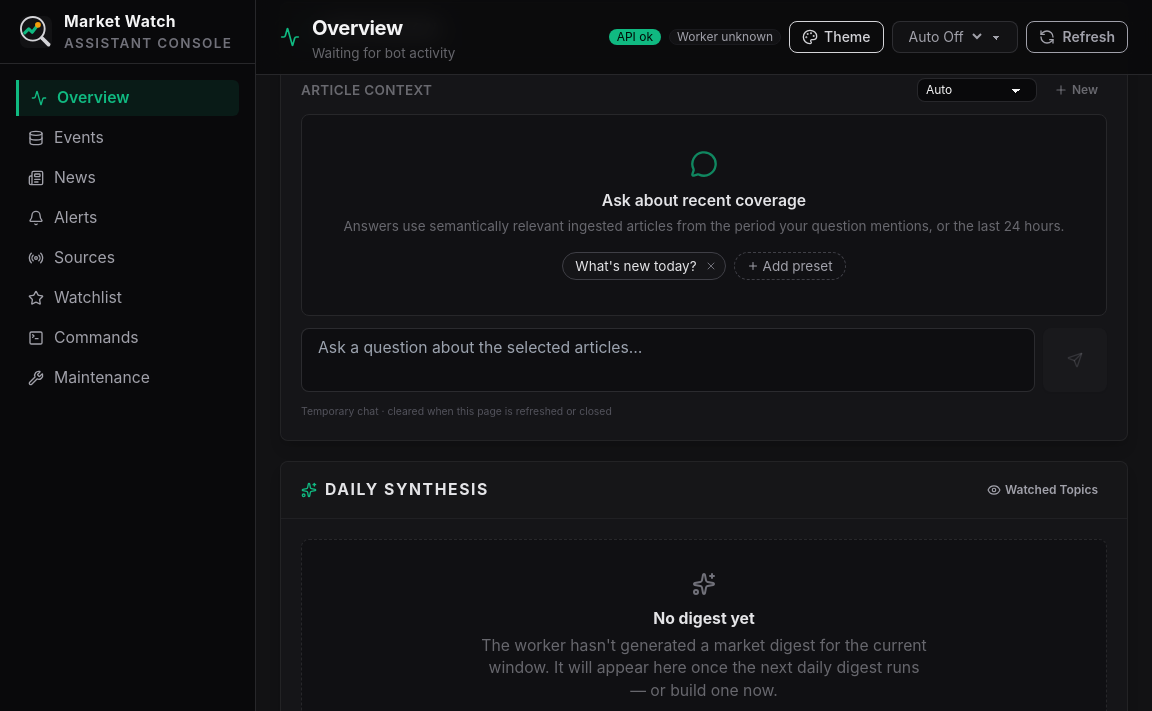
Scenario: App data states › renders Discussion Markdown with safe external links
This screenshot has width=1152, height=711.
(page scrolled)
Step 1. Type "**Explain** this" into the text box named "Discussion message" → (668, 360), box [301,328,1035,392]
(page scrolled)
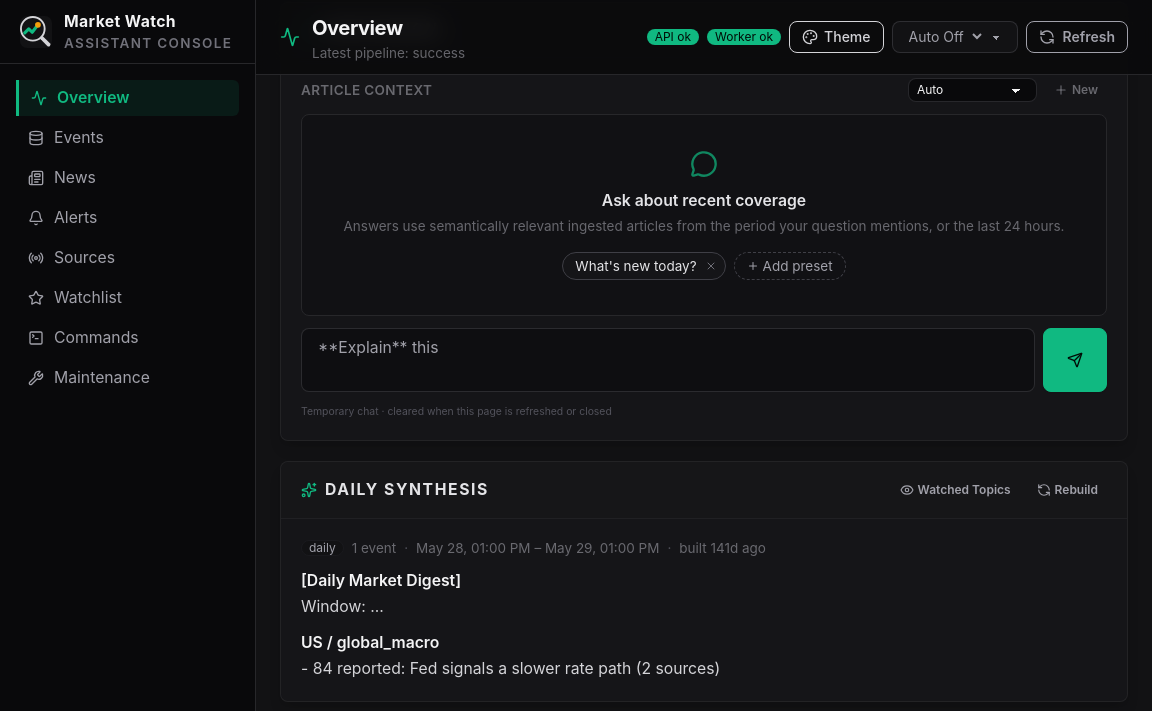
Step 2. Click the button named "Send discussion message" → (1075, 360), box [1043,328,1107,392]
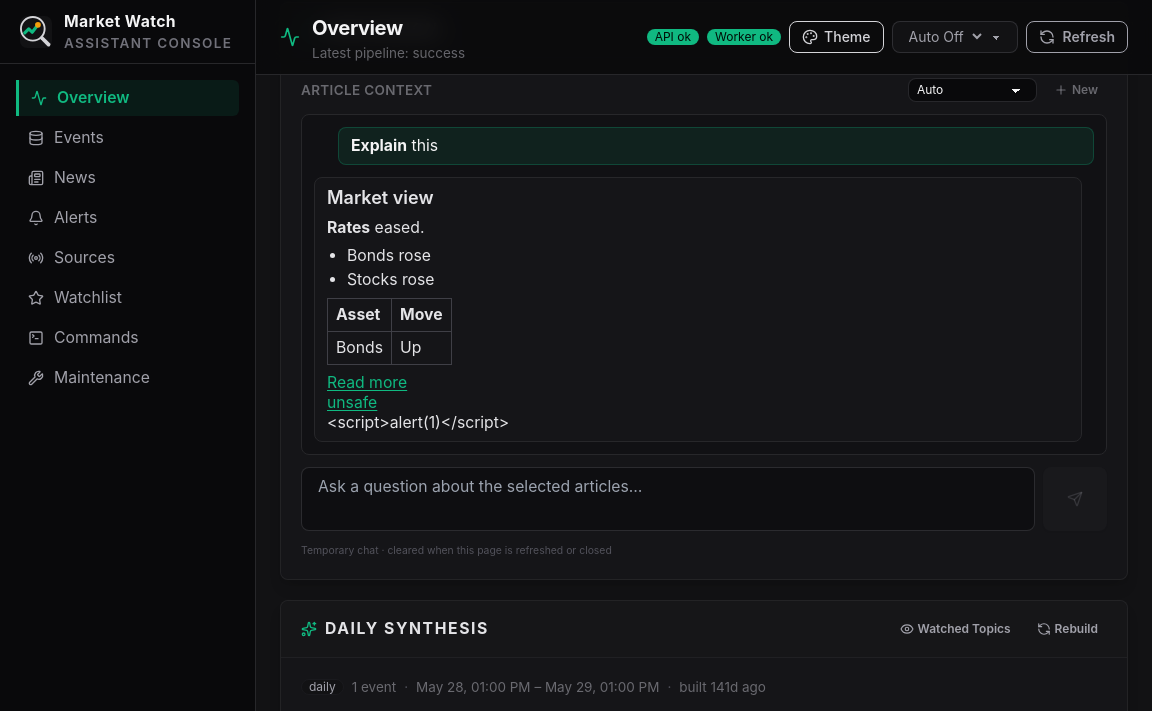
Now the text "Explain" is shown, box [351,136,407,155]
Now the heading "Market view" is shown, box [327,187,434,208]
Now the text "Rates" is shown, box [327,218,370,237]
